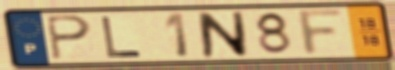1: (163, 11, 190, 60)
8: (254, 11, 294, 56)
F: (296, 7, 348, 58)
L: (99, 15, 146, 59)
N: (195, 10, 251, 59)
P: (43, 14, 94, 62)
